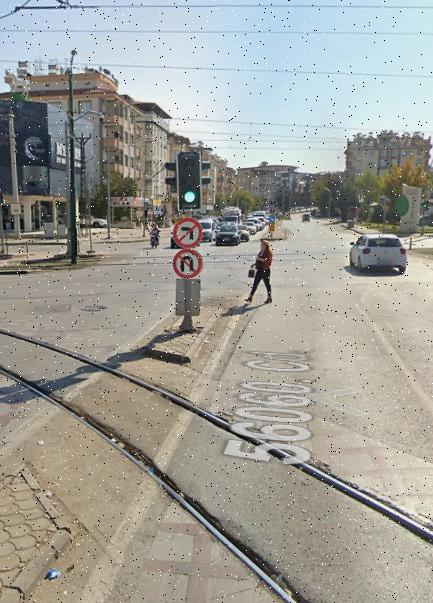greenlight: (180, 153, 201, 209)
leftturnsareforbidden: (173, 218, 201, 248)
